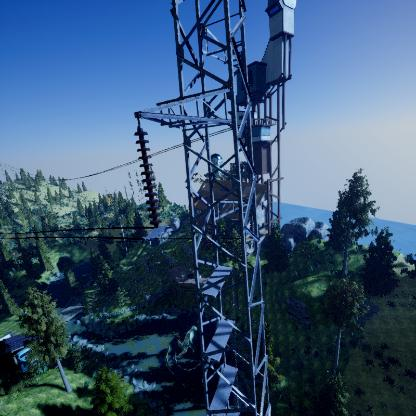insulator: (132, 129, 162, 228)
